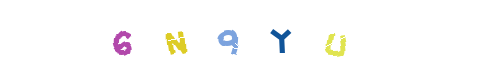6: (82, 0, 162, 80)
9: (203, 0, 283, 80)
N: (191, 0, 271, 80)
U: (241, 0, 321, 80)
Y: (208, 0, 288, 80)
